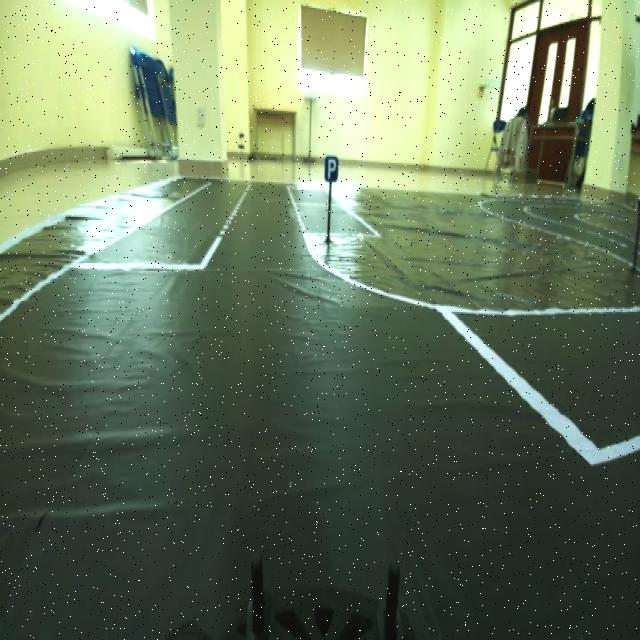parking: (322, 150, 342, 186)
